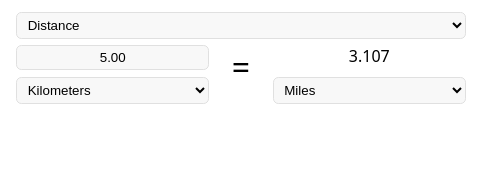
Test: should correctly load saved inputs
This screenshot has width=483, height=172.
Change category
Select "Time" in the dropdown named "Selected unit category" at [241, 26], box [16, 12, 466, 39]
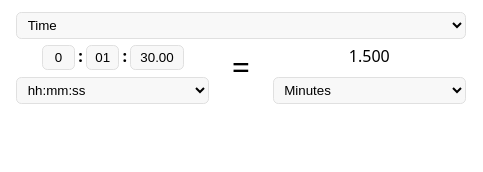
Expected: the dropdown named "Input units" shows "hh:mm:ss", [16, 77, 210, 104]
Expected: the dropdown named "Output units" shows "Minutes", [272, 77, 466, 104]
Change category
Select "Speed & Pace" in the dropdown named "Selected unit category" at [241, 26], box [16, 12, 466, 39]
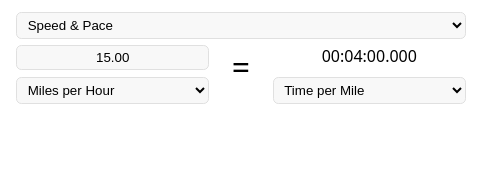
Expected: the dropdown named "Input units" shows "Miles per Hour", [16, 77, 210, 104]
Expected: the dropdown named "Output units" shows "Time per Mile", [272, 77, 466, 104]
Change category
Select "Distance" in the dropdown named "Selected unit category" at [241, 26], box [16, 12, 466, 39]
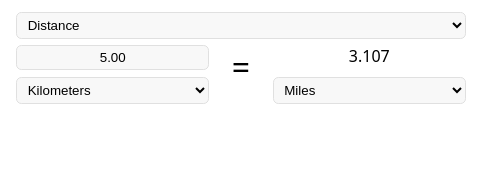
Expected: the dropdown named "Input units" shows "Kilometers", [16, 77, 210, 104]
Expected: the dropdown named "Output units" shows "Miles", [272, 77, 466, 104]
